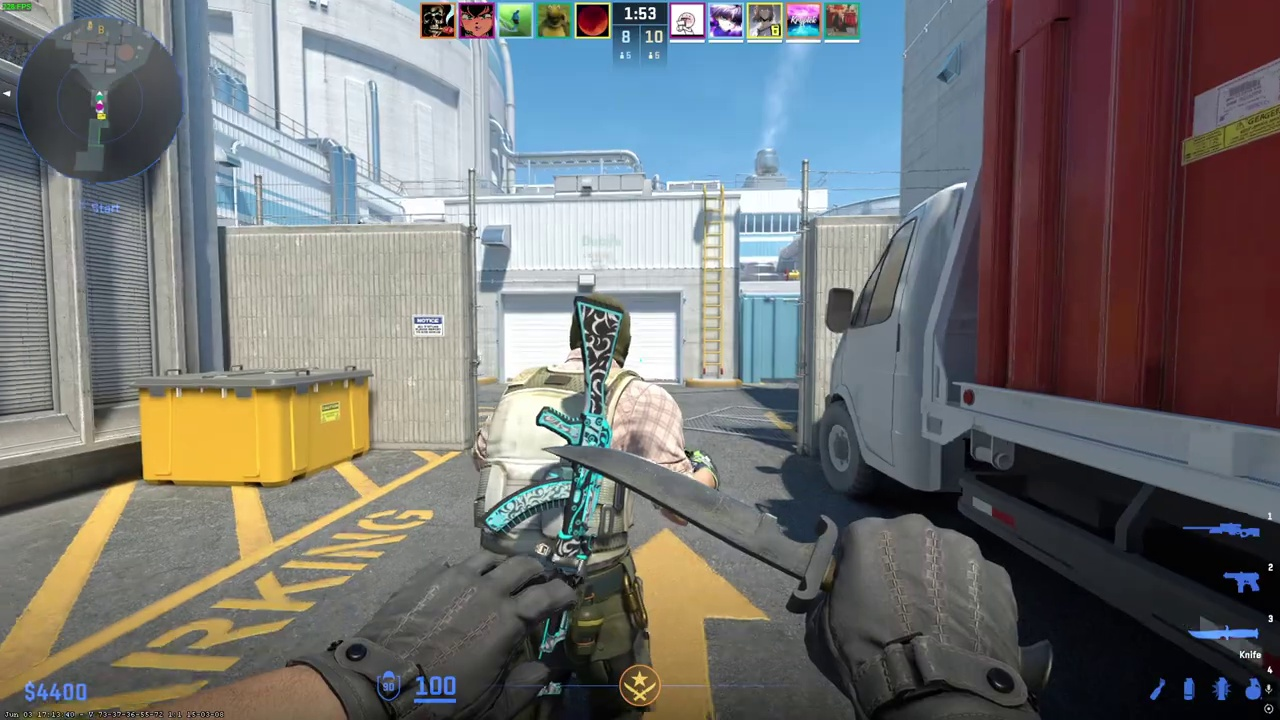Terrorist: (471, 293, 696, 720)
